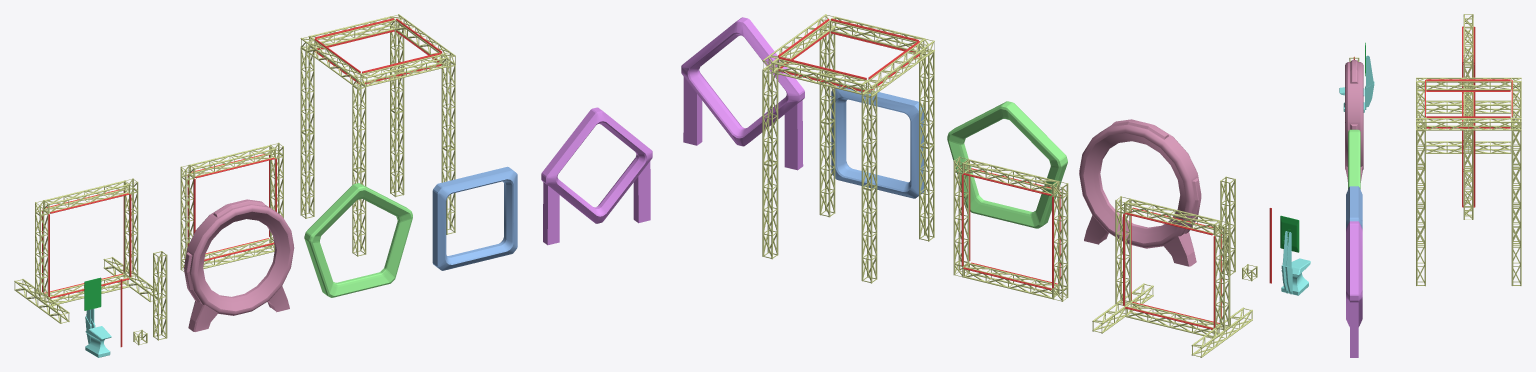
File: Quadcopter Drone Gates Pack 2 FBX.FBX
3 views of the same model, side by side, from view 1: azimuth 30°, elevation 25°; view 2: azimuth 150°, elevation 25°; view 3: azimuth 270°, elevation 25° (orthographic). The views are drawn at different scales.
Visible parts, largest first — view 1: GATE_MTL_SQR_Gravity Gate, GATE_ PLSTC_Round, GATE_ PLSTC_Square45, GATE_MTL_SQR_Standing, GATE_ PLSTC_Hex, GATE_ PLSTC_Square, GATE_MTL_SQR_Hanging, GATE_Metal_Long, Starting Gate, NEON_1, NEON_1_ncl1_2, NEON_1_ncl1_1 (+1 smaller); view 2: GATE_MTL_SQR_Gravity Gate, GATE_ PLSTC_Round, GATE_ PLSTC_Square45, GATE_MTL_SQR_Standing, GATE_MTL_SQR_Hanging, GATE_ PLSTC_Hex, GATE_ PLSTC_Square, Starting Gate, GATE_Metal_Long, NEON_2_ncl1_1, NEON_2, NEON_1_ncl1_2 (+3 smaller); view 3: GATE_MTL_SQR_Gravity Gate, GATE_MTL_SQR_Standing, GATE_ PLSTC_Square45, GATE_ PLSTC_Round, GATE_MTL_SQR_Hanging, GATE_ PLSTC_Hex, GATE_ PLSTC_Square, NEON_1_ncl1_2, Starting Gate, NEON_2_ncl1_1, NEON_2_ncl1_2, NEON_1_ncl1_1 (+1 smaller).
Boxes of the visible parts, bbox=[...] form: GATE_MTL_SQR_Gravity Gate: bbox=[300, 14, 455, 256]; GATE_ PLSTC_Round: bbox=[184, 199, 294, 331]; GATE_ PLSTC_Square45: bbox=[541, 107, 652, 245]; GATE_MTL_SQR_Standing: bbox=[14, 178, 157, 323]; GATE_ PLSTC_Hex: bbox=[304, 183, 412, 297]; GATE_ PLSTC_Square: bbox=[432, 166, 517, 270]; GATE_MTL_SQR_Hanging: bbox=[180, 142, 283, 271]; GATE_Metal_Long: bbox=[153, 251, 167, 340]; Starting Gate: bbox=[85, 309, 111, 357]; NEON_1: bbox=[48, 193, 131, 298]; NEON_1_ncl1_2: bbox=[314, 18, 442, 73]; NEON_1_ncl1_1: bbox=[193, 157, 276, 261]; GATE_MTL_SQR_Gravity Gate: bbox=[762, 14, 934, 283]; GATE_ PLSTC_Round: bbox=[1079, 119, 1201, 266]; GATE_ PLSTC_Square45: bbox=[681, 17, 804, 170]; GATE_MTL_SQR_Standing: bbox=[1092, 196, 1252, 357]; GATE_MTL_SQR_Hanging: bbox=[953, 156, 1068, 301]; GATE_ PLSTC_Hex: bbox=[947, 101, 1067, 228]; GATE_ PLSTC_Square: bbox=[831, 83, 923, 198]; Starting Gate: bbox=[1281, 231, 1310, 295]; GATE_Metal_Long: bbox=[1220, 176, 1235, 275]; NEON_2_ncl1_1: bbox=[961, 173, 1053, 290]; NEON_2: bbox=[1123, 212, 1215, 329]; NEON_1_ncl1_2: bbox=[778, 18, 919, 79]; GATE_MTL_SQR_Gravity Gate: bbox=[1416, 77, 1521, 286]; GATE_MTL_SQR_Standing: bbox=[1426, 14, 1511, 153]; GATE_ PLSTC_Square45: bbox=[1346, 221, 1362, 357]; GATE_ PLSTC_Round: bbox=[1345, 60, 1363, 182]; GATE_MTL_SQR_Hanging: bbox=[1463, 82, 1473, 219]; GATE_ PLSTC_Hex: bbox=[1348, 129, 1360, 189]; GATE_ PLSTC_Square: bbox=[1346, 186, 1362, 228]; NEON_1_ncl1_2: bbox=[1425, 79, 1512, 117]; Starting Gate: bbox=[1339, 55, 1374, 112]; NEON_2_ncl1_1: bbox=[1473, 92, 1475, 207]; NEON_2_ncl1_2: bbox=[1426, 90, 1510, 128]; NEON_1_ncl1_1: bbox=[1462, 92, 1463, 207].
Bounding box in the file's own units: 840 × 257 × 256.
